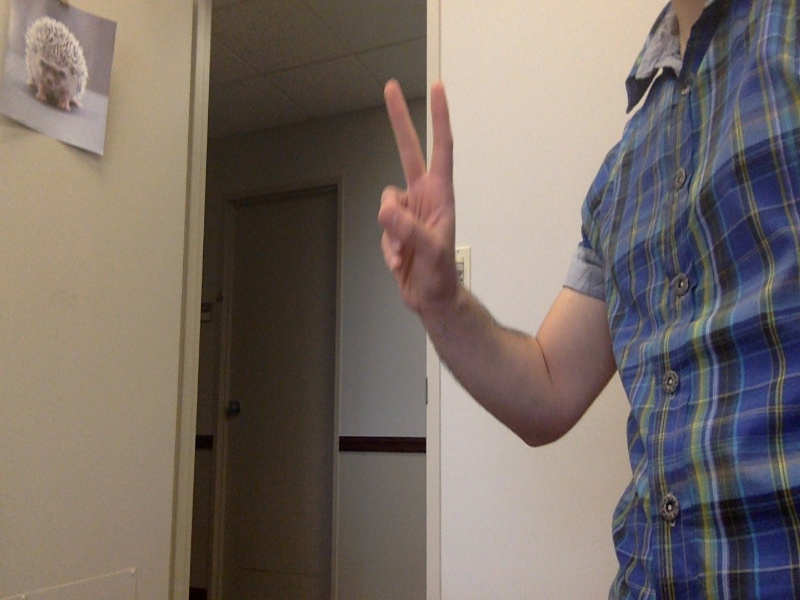2-hand: (374, 81, 462, 320)
